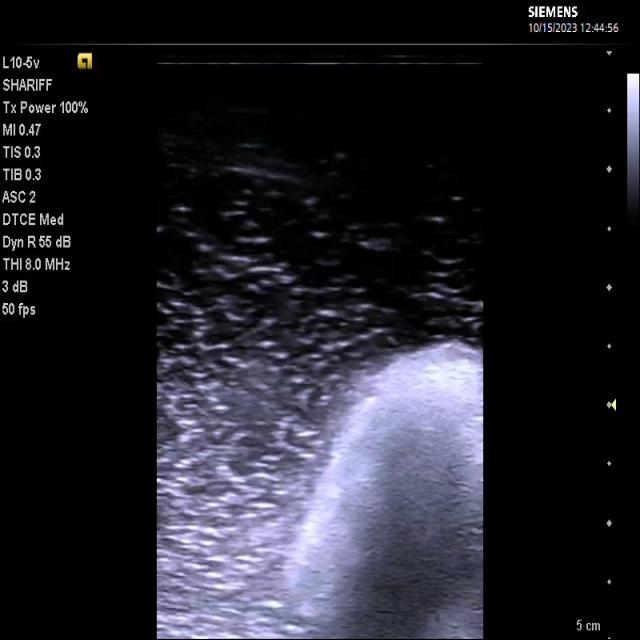tissue: (281, 341, 484, 639)
